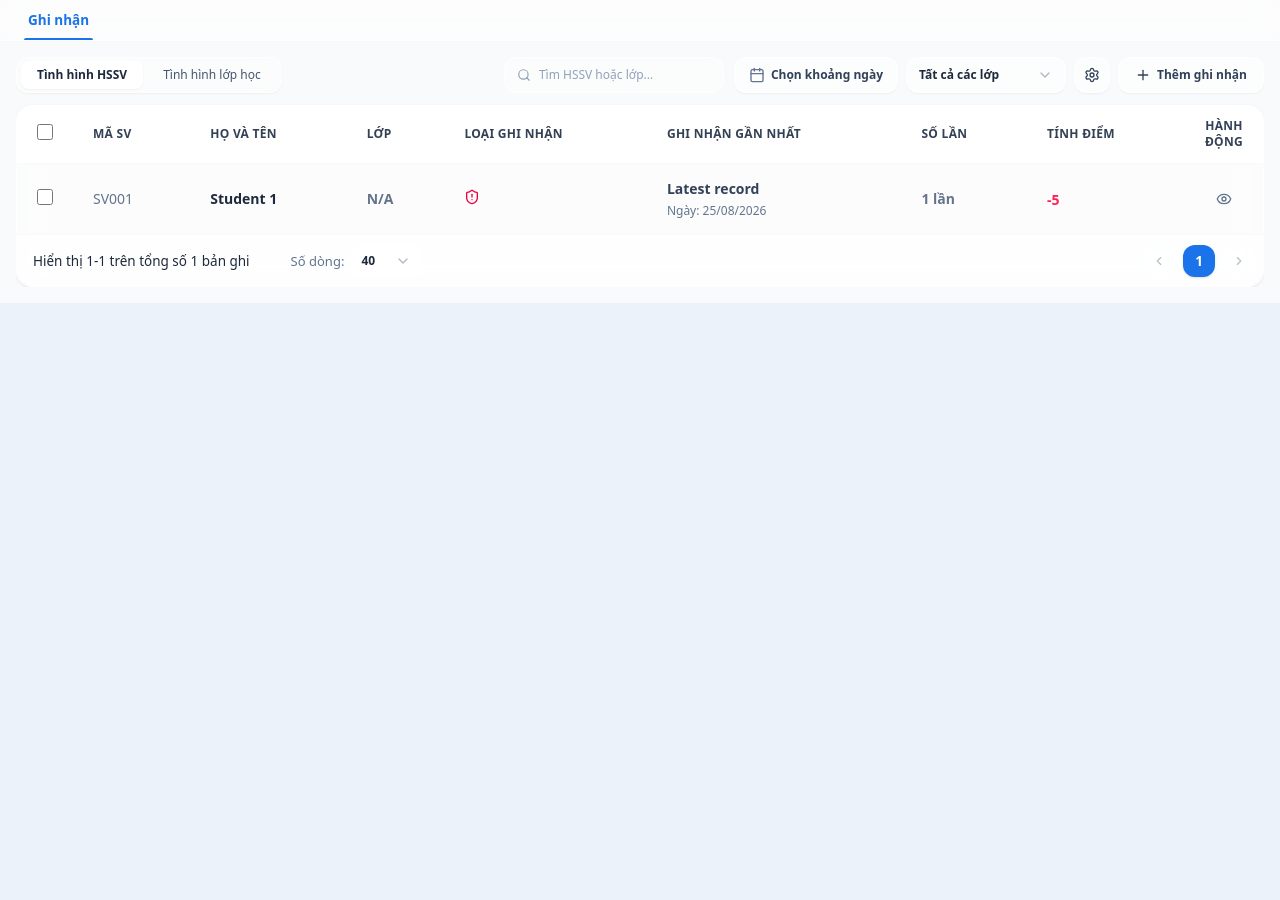
it: StudentRecordPage Infinite Scroll › does not mark recent records without a class report source
Click the button titled "Xem chi tiết". click: (1224, 199)
box: [1210,185,1238,213]
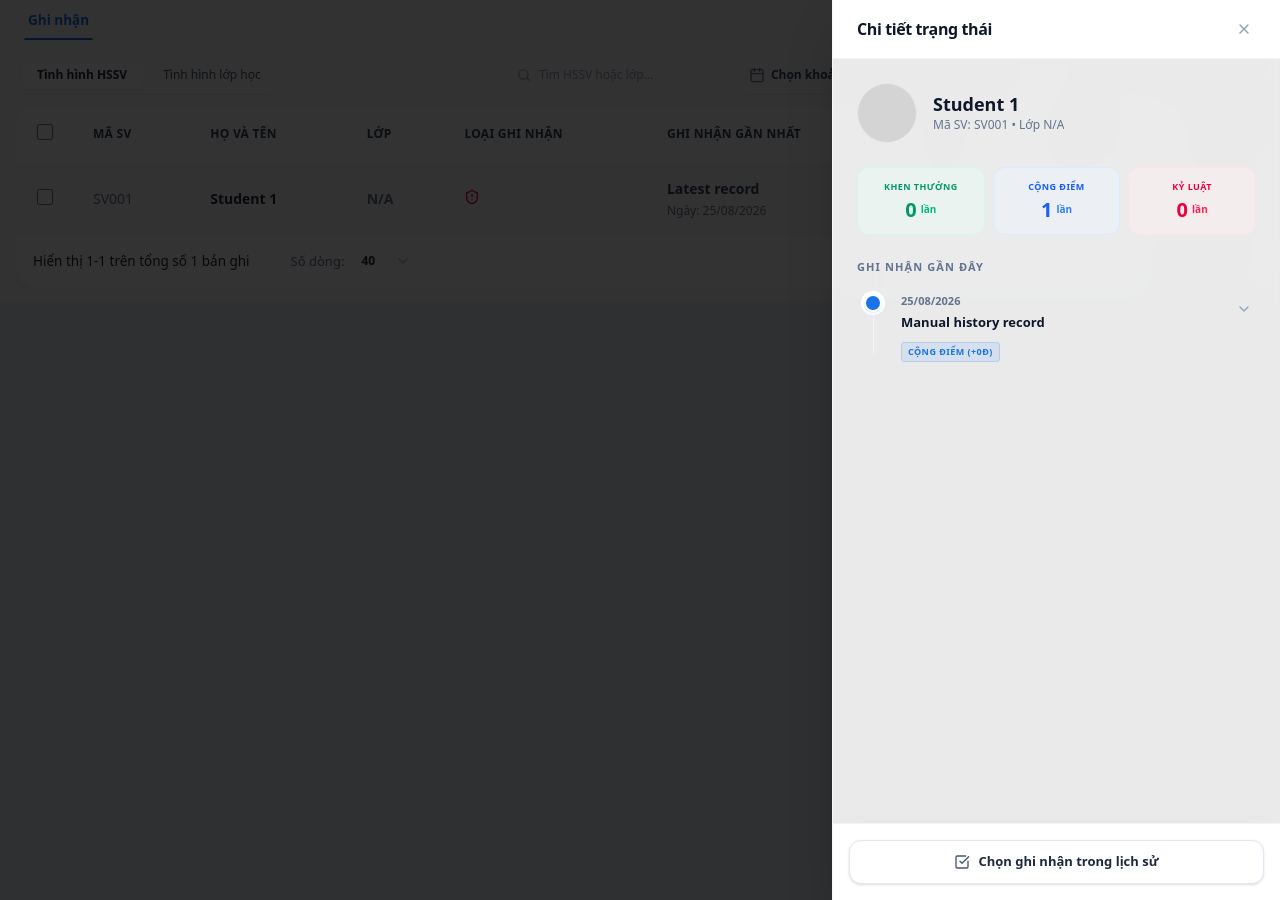
Check: the text "Manual history record" is shown, box [901,314,1045,331]
